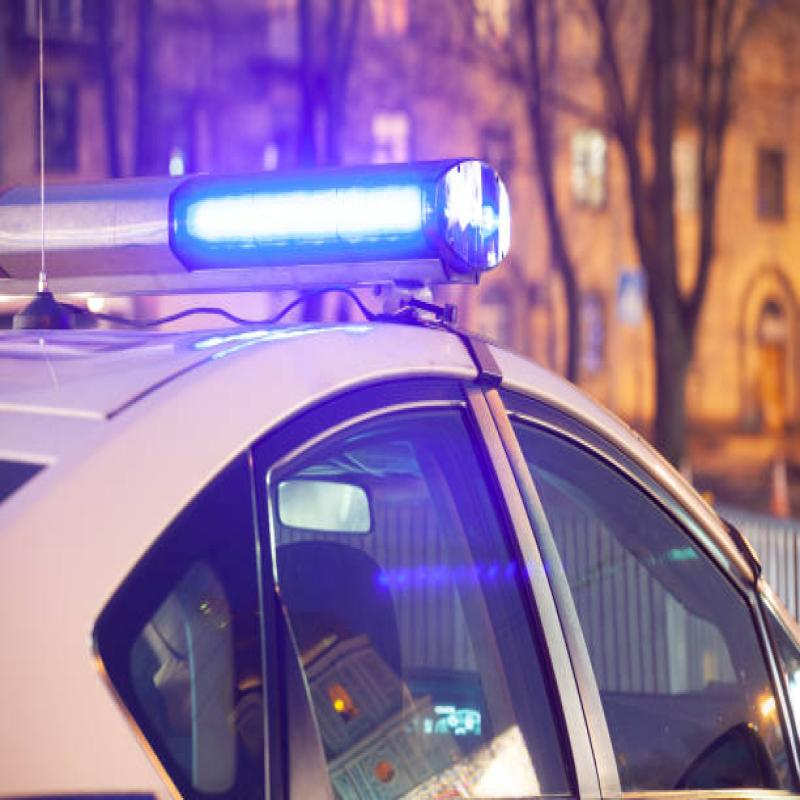AmbulanceSiren: (127, 143, 535, 350)
